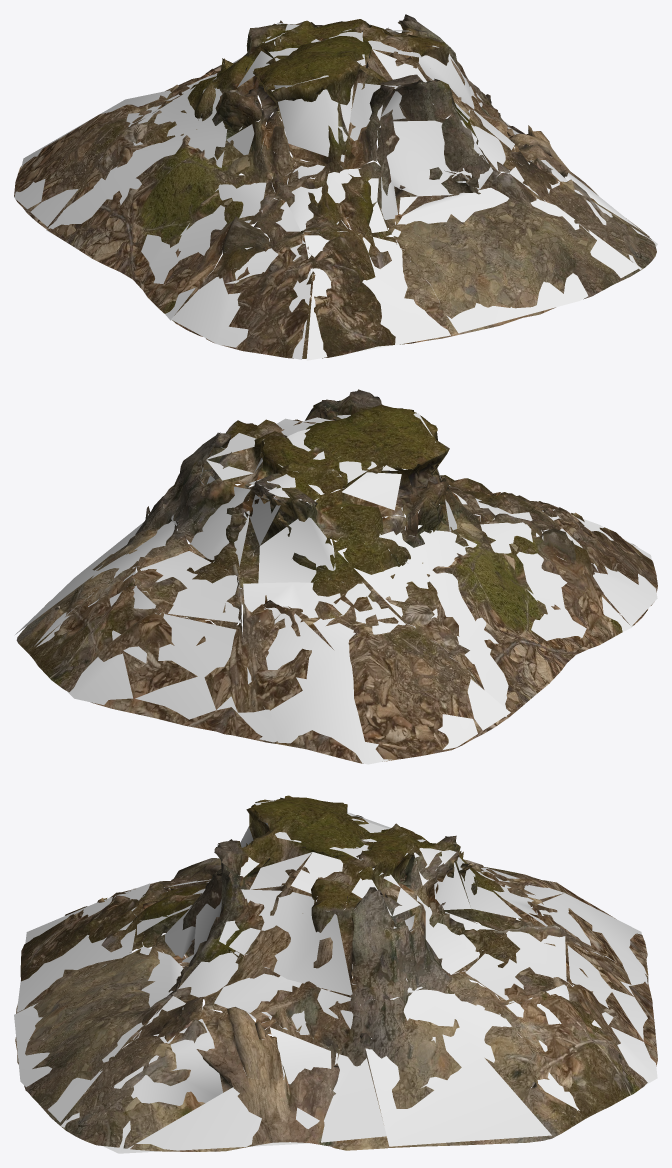
The model's file is ph_tree_stump_01.glb.
3 views of the same model, one above another, from view 1: azimuth 30°, elevation 25°; view 2: azimuth 150°, elevation 25°; view 3: azimuth 270°, elevation 25° (orthographic). The views are drawn at different scales.
Visible parts, largest first — view 1: ph_tree_stump_01, ph_tree_stump_01_col; view 2: ph_tree_stump_01, ph_tree_stump_01_col; view 3: ph_tree_stump_01, ph_tree_stump_01_col.
Part boxes in pixels (box(x1,y1,x2,y2)): ph_tree_stump_01: box(14, 14, 656, 358); ph_tree_stump_01_col: box(14, 22, 657, 360); ph_tree_stump_01: box(16, 389, 657, 763); ph_tree_stump_01_col: box(15, 413, 657, 764); ph_tree_stump_01: box(15, 795, 657, 1151); ph_tree_stump_01_col: box(14, 800, 657, 1153).
Bounding box in the file's own units: 1.43 × 0.5778 × 1.59.
1 material, 1 textured.
